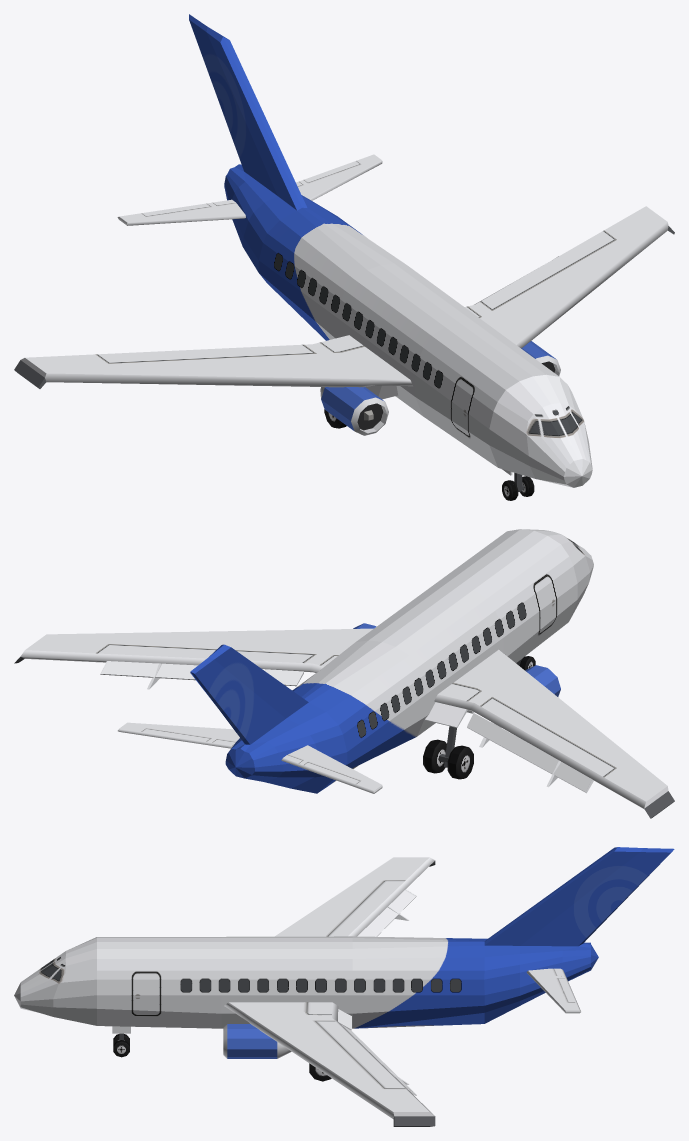
The model's file is Airplane.obj.
3 renders of one model, top to bottom at view 1: azimuth 30°, elevation 25°; view 2: azimuth 150°, elevation 25°; view 3: azimuth 270°, elevation 25°, orthographic. The views are drawn at different scales.
Parts seen in each view (by area): view 1: Airplanes; view 2: Airplanes; view 3: Airplanes.
Boxes of the visible parts, bbox=[...] form: Airplanes: bbox=[14, 14, 674, 500]; Airplanes: bbox=[14, 529, 674, 818]; Airplanes: bbox=[14, 847, 674, 1126].
Size of the model in its own units: 1567 by 581 by 1676.
Materials: 1 (1 with a texture image).
